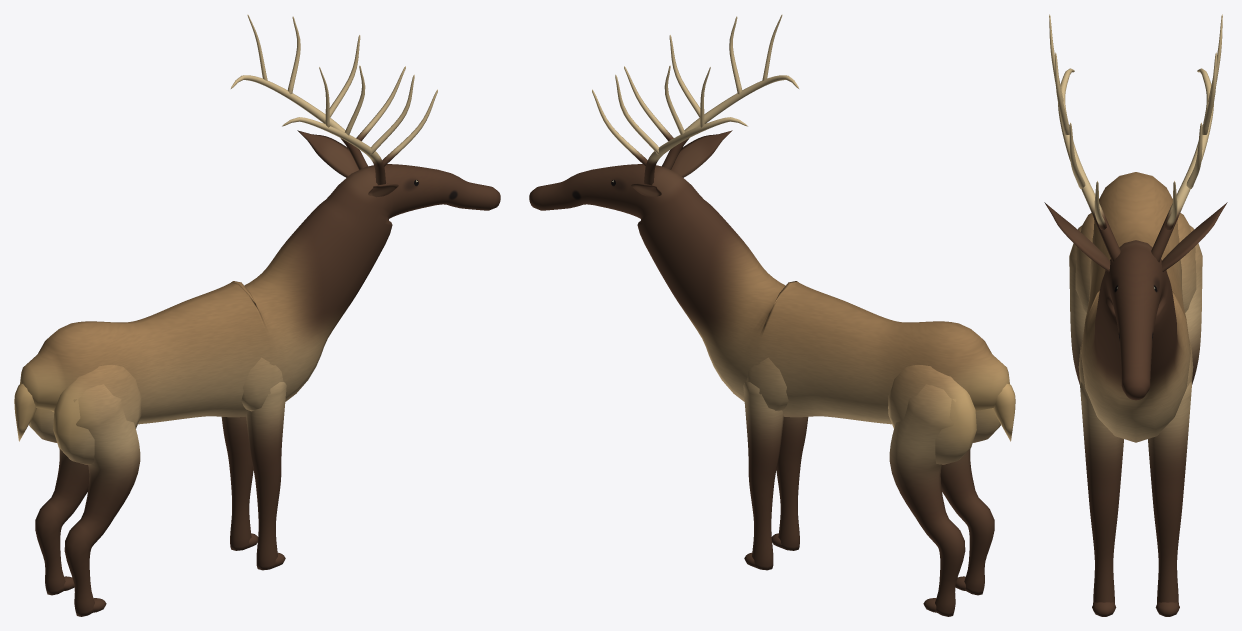
File: elk.glb
3 views of the same model, side by side, from view 1: azimuth 30°, elevation 25°; view 2: azimuth 150°, elevation 25°; view 3: azimuth 270°, elevation 25° (orthographic). The views are drawn at different scales.
Visible parts, largest first — view 1: elk; view 2: elk; view 3: elk.
Boxes of the visible parts, left/top/right/bottom form: elk: left=14, top=14, right=500, bottom=616; elk: left=529, top=14, right=1015, bottom=616; elk: left=1044, top=14, right=1227, bottom=616.
Bounding box in the file's own units: 2.75 × 2.77 × 0.7513.
Materials: 1 (1 with a texture image).
